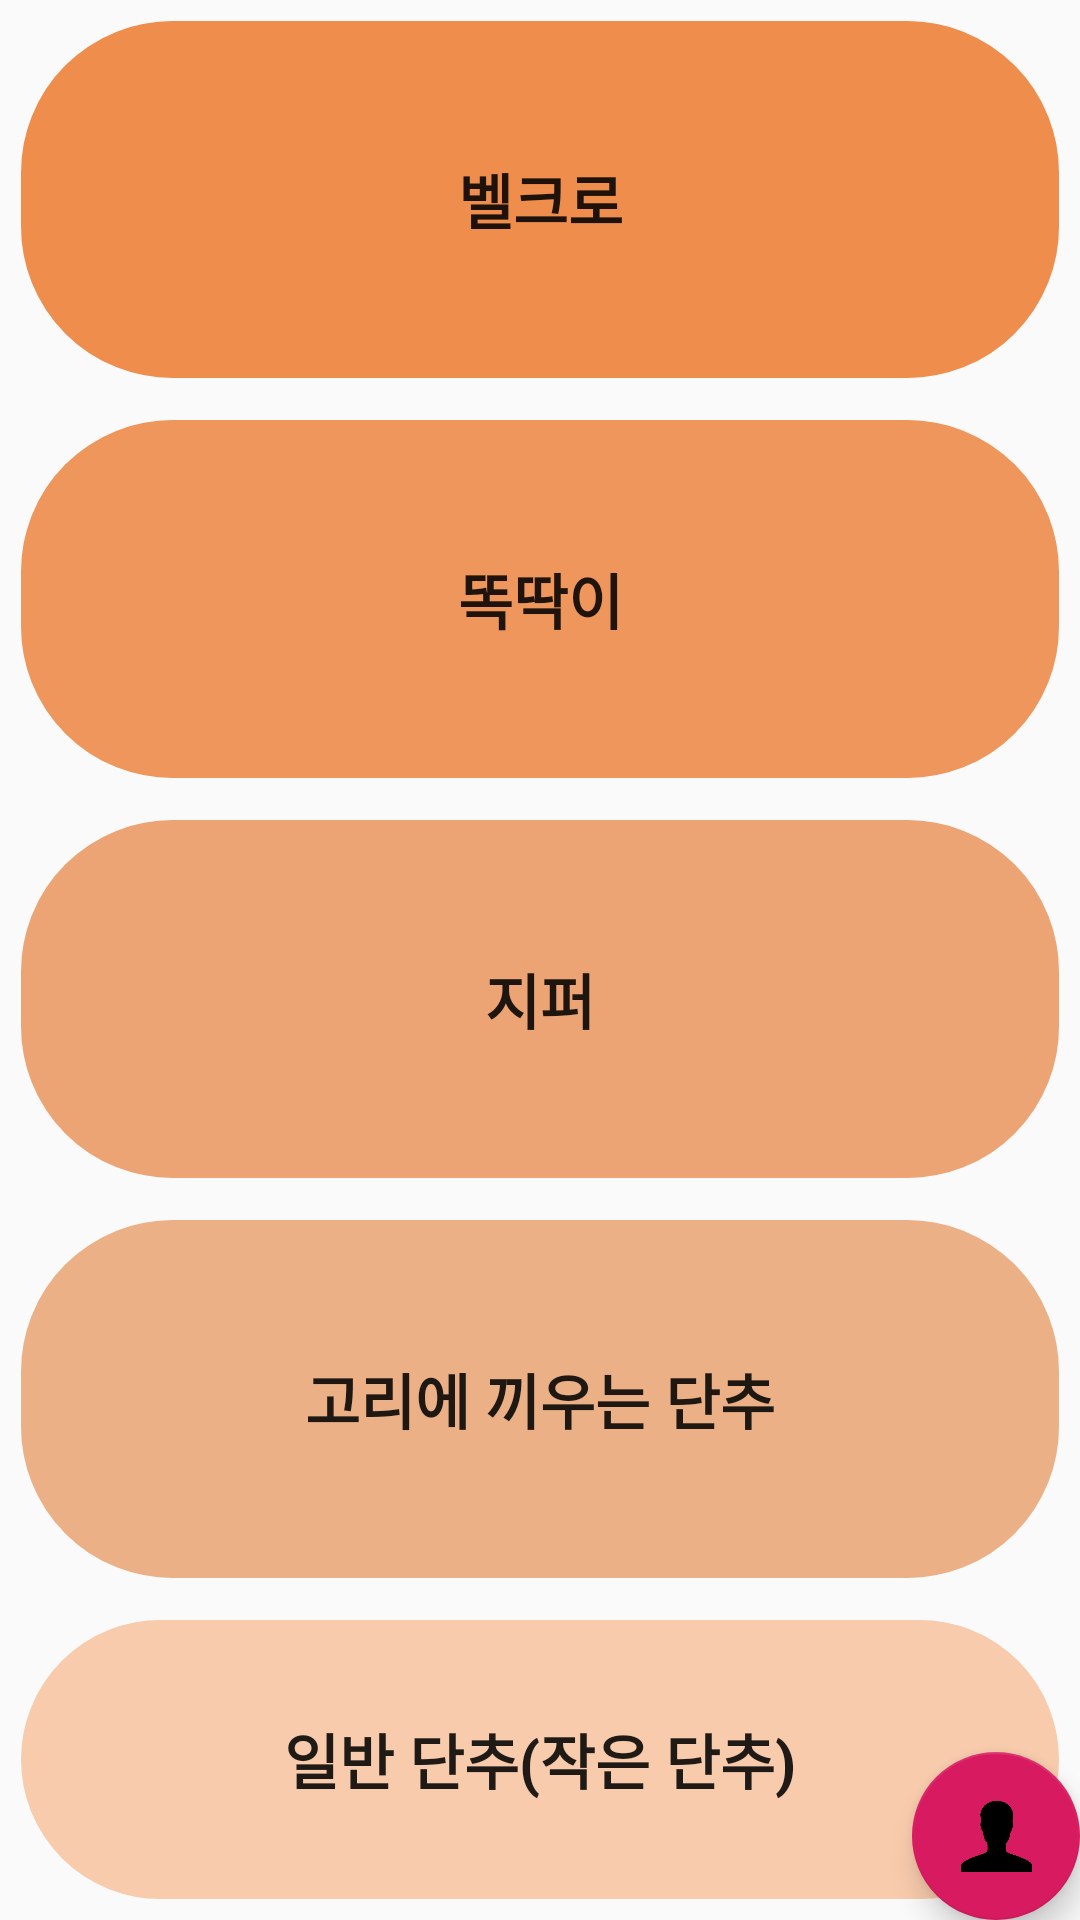

Named icons in this screenshot (1080*1920) and their bounding boxes, (x1, y1, x2, y2):
person: (912, 1752, 1080, 1920)
